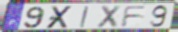9: (23, 6, 47, 29), (149, 5, 169, 28)
F: (120, 5, 148, 28)
I: (79, 6, 90, 28)
X: (45, 5, 75, 30), (95, 5, 123, 29)
